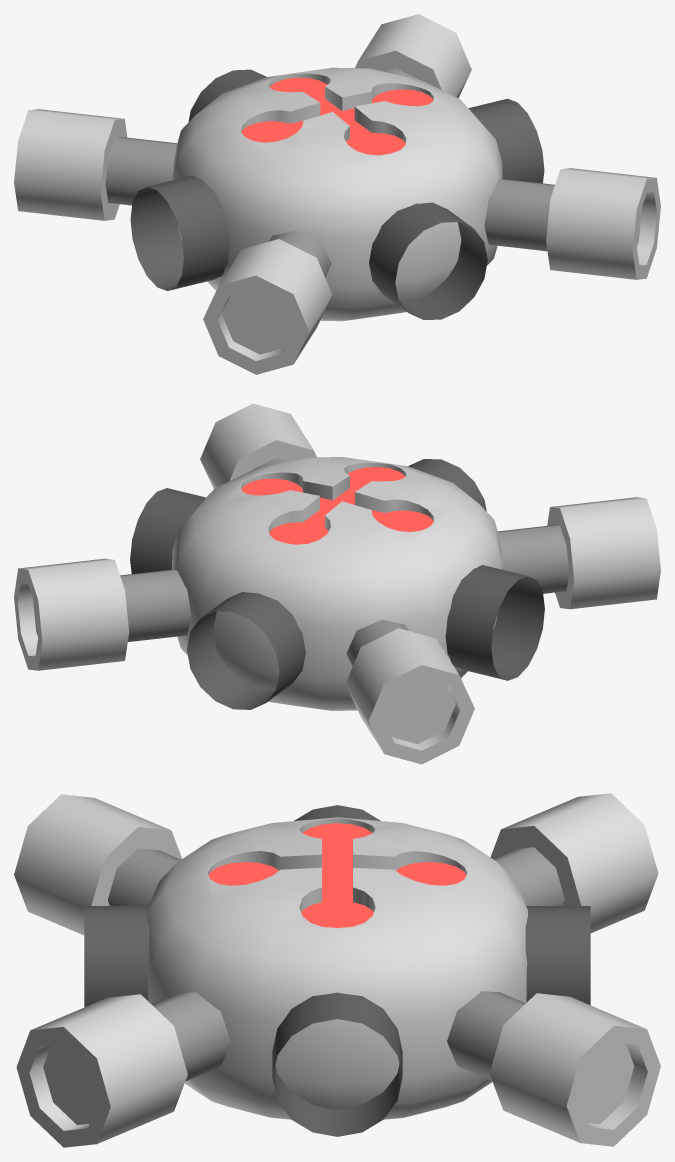
File: SM_Player_Core.fbx
3 renders of one model, top to bottom at view 1: azimuth 30°, elevation 25°; view 2: azimuth 150°, elevation 25°; view 3: azimuth 270°, elevation 25°, orthographic. The views are drawn at different scales.
Parts seen in each view (by area): view 1: Core; view 2: Core; view 3: Core.
Part boxes in pixels (box(x1,y1,x2,y2)): Core: box(14, 14, 660, 374); Core: box(14, 403, 660, 764); Core: box(14, 793, 660, 1147).
Size of the model in its own units: 0.9909 by 0.3719 by 0.9909.
